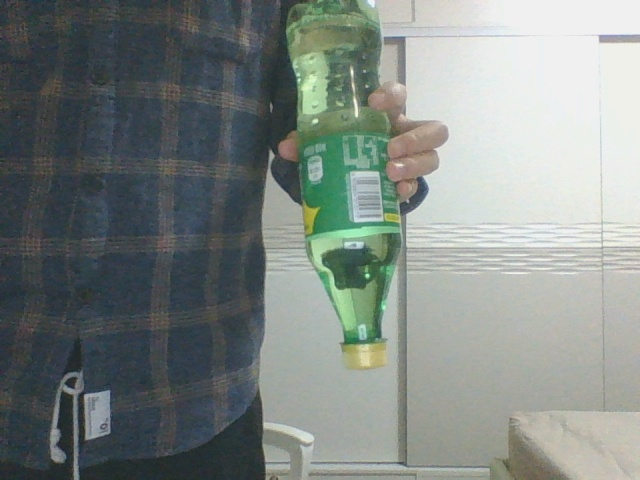Sprite: (288, 1, 402, 373)
